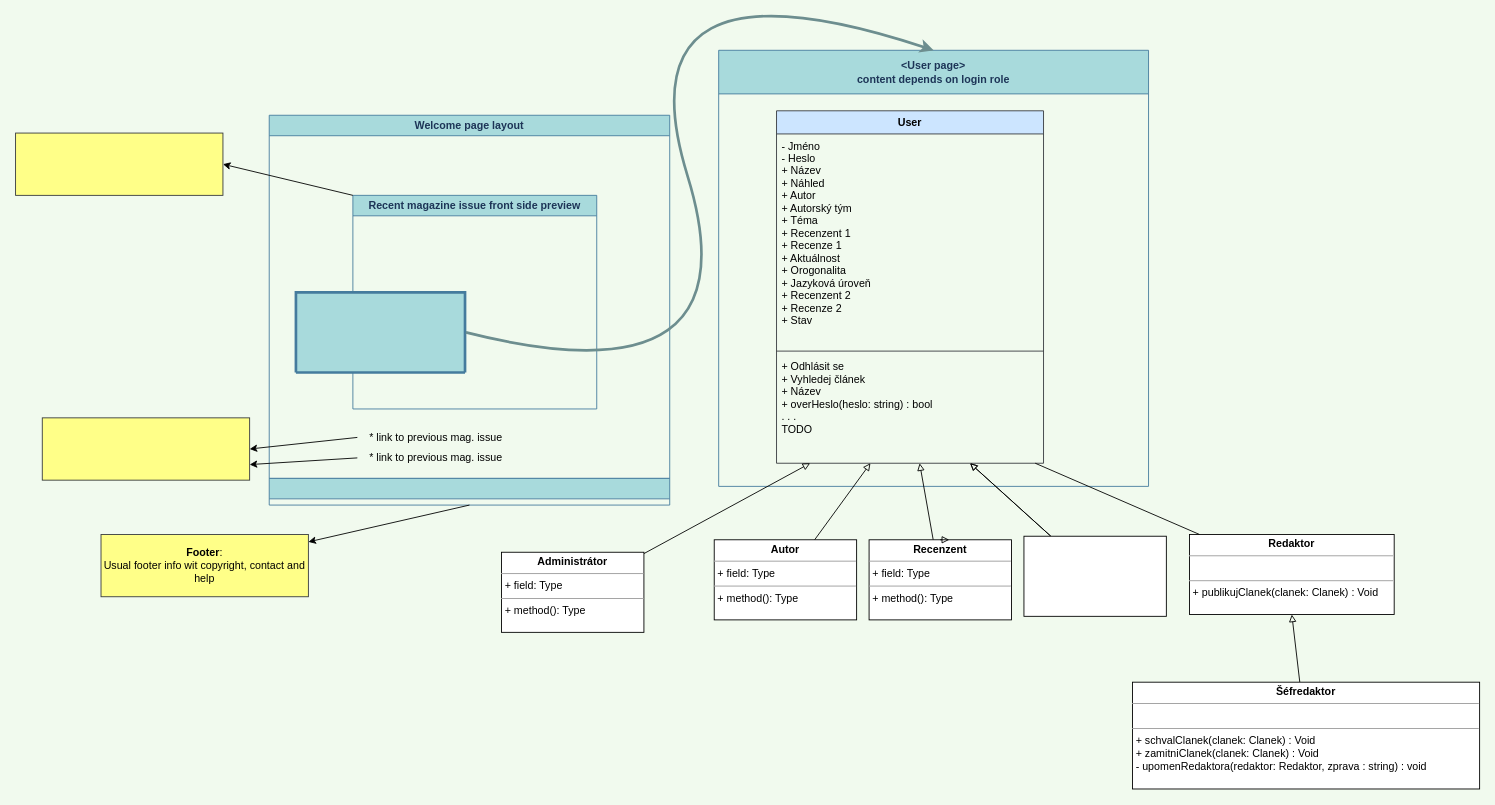
Some shapes in this 1495 by 805 pixel diagram are drawn without their labels. The centre of each missing label's shape, as x and y in pixels:
Clickable(link), opens new window with the latest magazine issue: the point at 119,163
Clickable(link), opens new window with the previus magazine issue: the point at 145,448
Footer: the point at 469,491
Login: the point at 380,332
Čtenář + field: Type + method(): Type: the point at 1094,575
